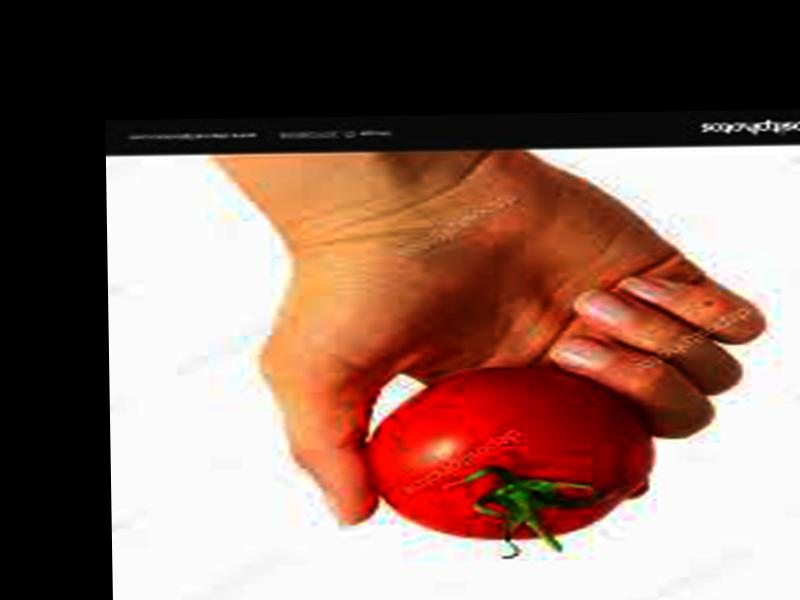Tomato: (367, 364, 648, 543)
